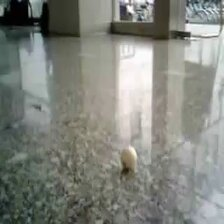w: (119, 145, 138, 168)
